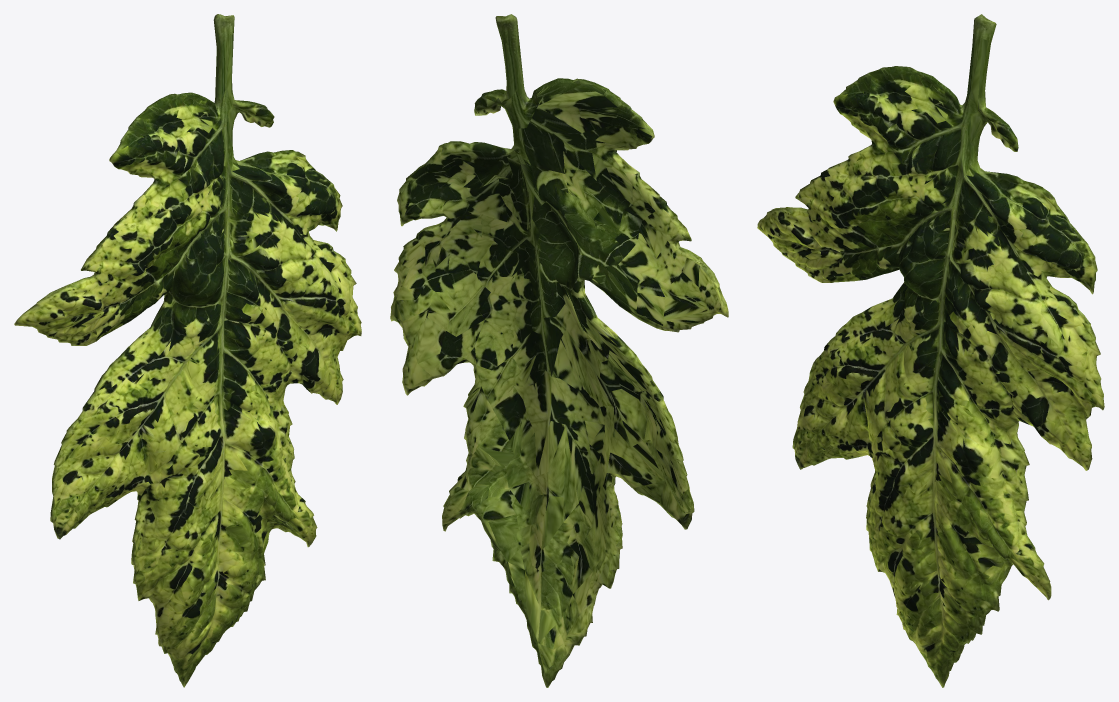
File: tomato_mosaic_virus.glb
The picture shows the model from 3 angles, left to right: view 1: azimuth 30°, elevation 25°; view 2: azimuth 150°, elevation 25°; view 3: azimuth 330°, elevation 25°; orthographic projection. The views are drawn at different scales.
Visible parts, largest first — view 1: tomato_mosaic_virus; view 2: tomato_mosaic_virus; view 3: tomato_mosaic_virus.
Boxes of the visible parts, x1,y1,x2,y2 form: tomato_mosaic_virus: (14, 14, 361, 687); tomato_mosaic_virus: (390, 14, 728, 687); tomato_mosaic_virus: (757, 14, 1104, 687).
Bounding box in the file's own units: 0.5392 × 1 × 0.0926.
1 material, 1 textured.
